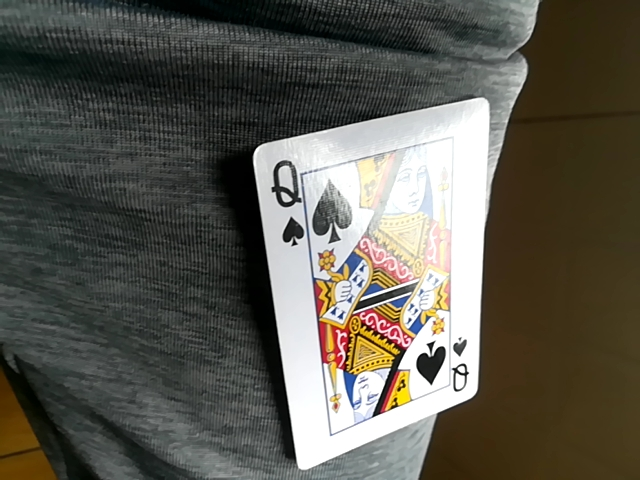ht q: (253, 94, 490, 473)
